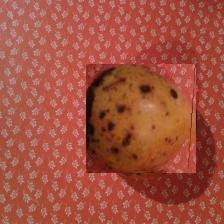Mango Semirotten: (87, 64, 197, 173)
